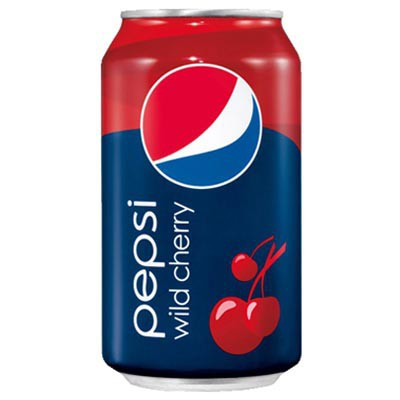pepsi: (140, 61, 262, 188)
